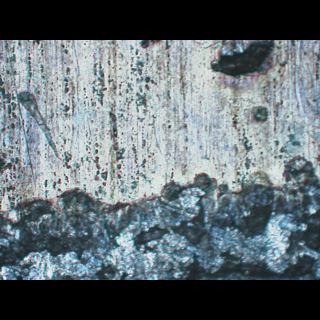d: (0, 149, 318, 279), (205, 39, 293, 83)
